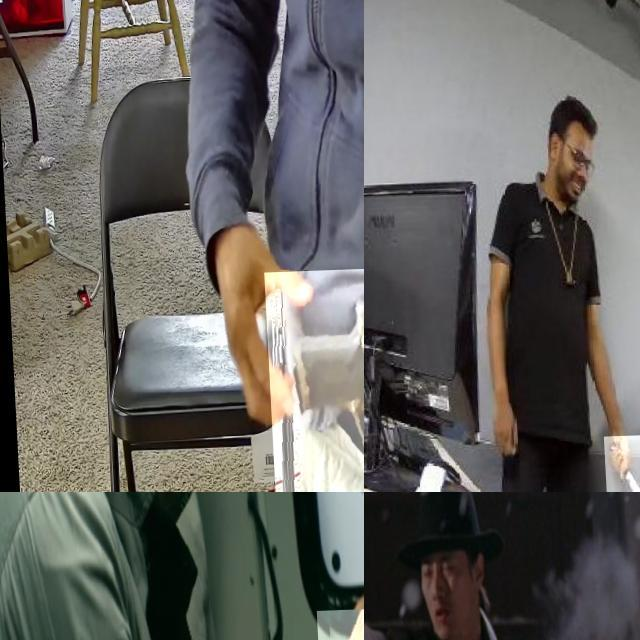-: (598, 438, 640, 492)
gun-knife-thesis - v11 Yolov5 augmented: (260, 269, 364, 492), (364, 550, 399, 640)
